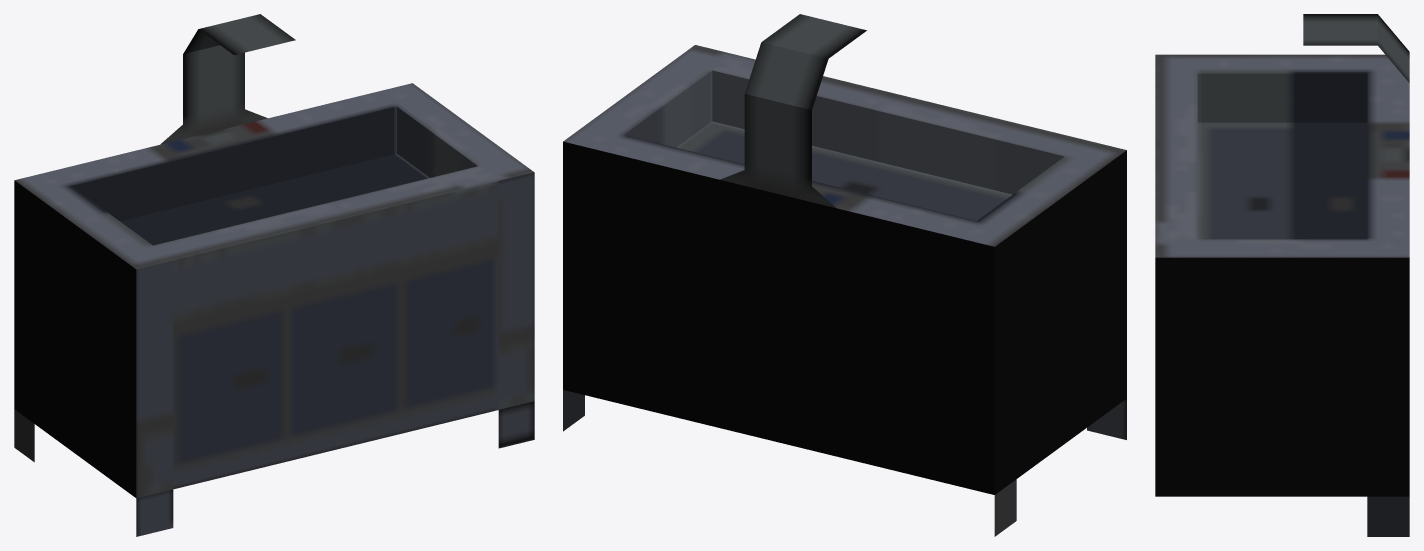
The model's file is Sink.fbx.
The picture shows the model from 3 angles, left to right: view 1: azimuth 30°, elevation 25°; view 2: azimuth 150°, elevation 25°; view 3: azimuth 270°, elevation 25°; orthographic projection. The views are drawn at different scales.
Visible parts, largest first — view 1: Sink; view 2: Sink; view 3: Sink.
Boxes of the visible parts, x1,y1,x2,y2 form: Sink: (14, 14, 534, 536); Sink: (563, 14, 1126, 536); Sink: (1155, 14, 1409, 536).
Size of the model in its own units: 2 by 1.87 by 1.06.
